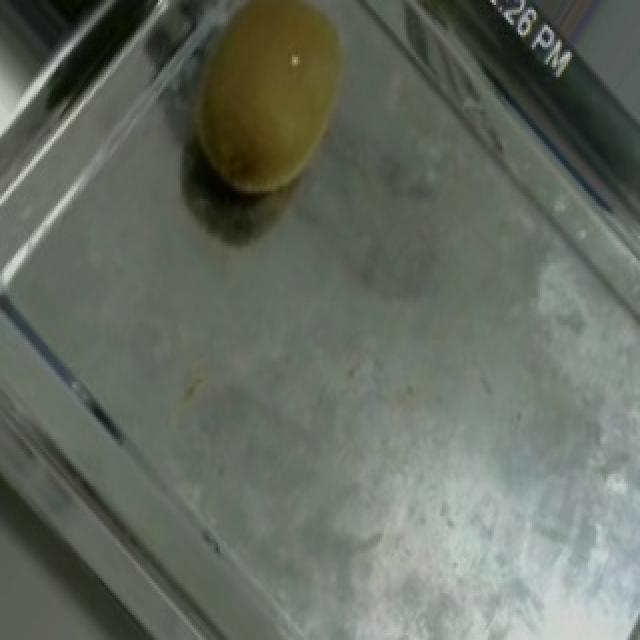Fruit: (146, 0, 386, 231)
